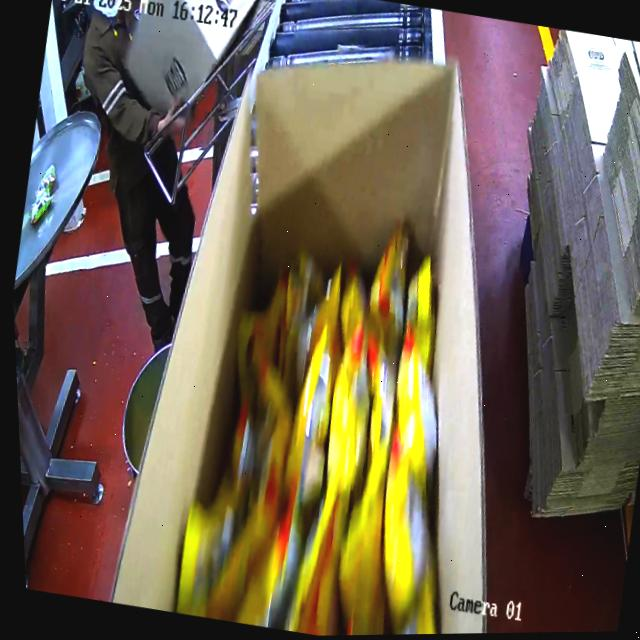SALTED: (160, 215, 496, 638)
